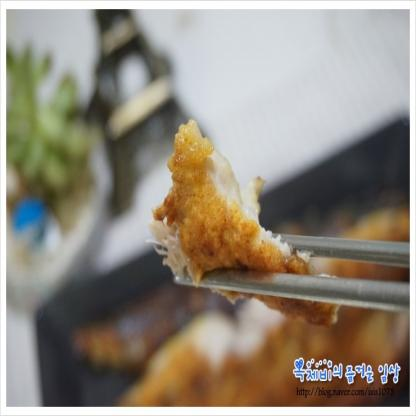Peixe: (73, 290, 416, 407), (156, 138, 278, 297)
